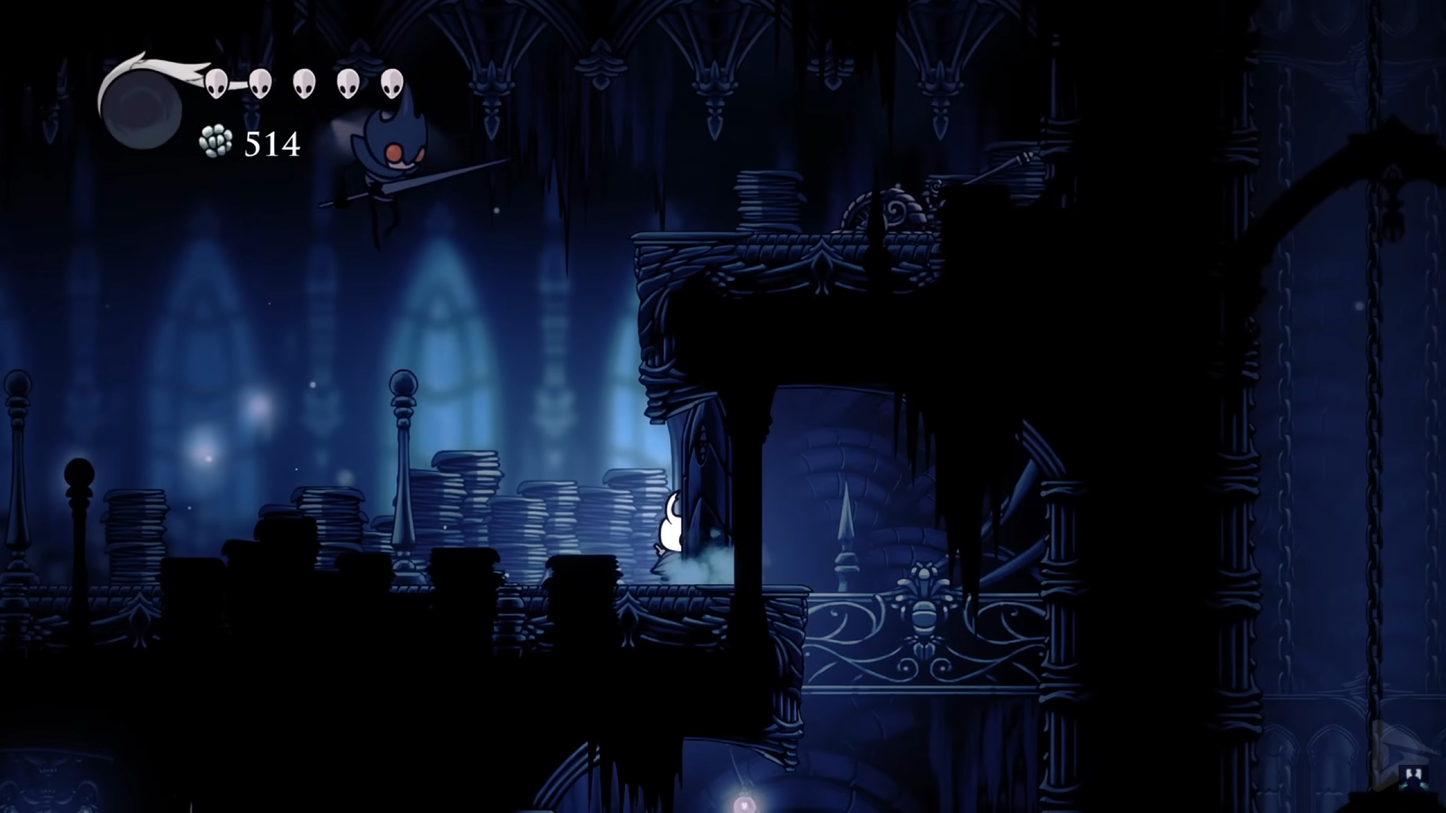HK: (649, 491, 694, 583)
